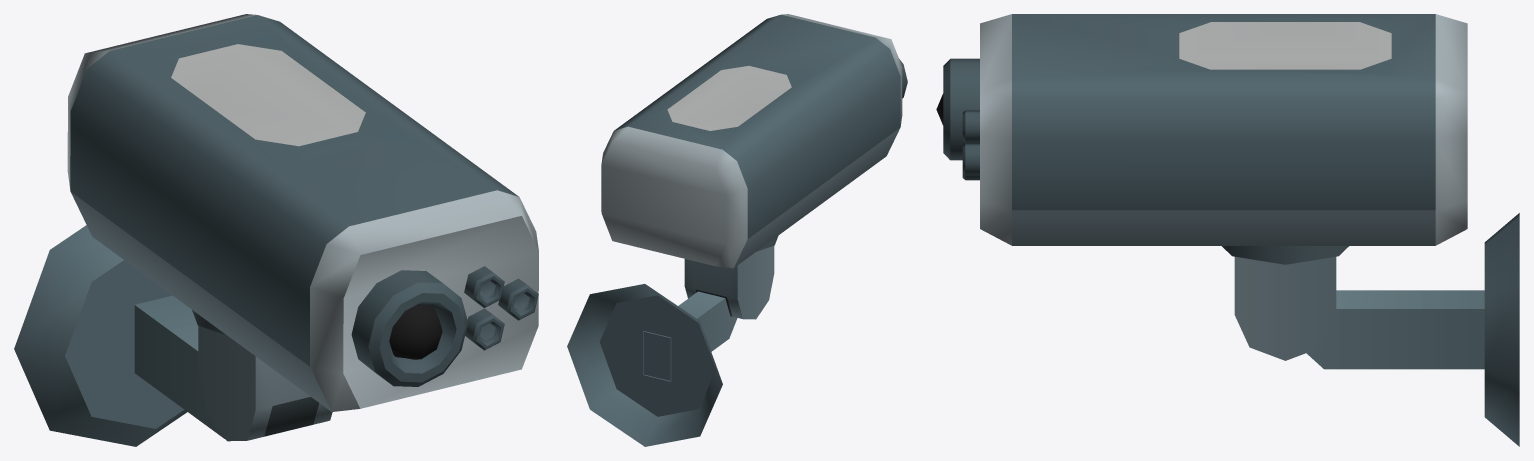
Rendered from Security_cam_013.glb.
3 views of the same model, side by side, from view 1: azimuth 30°, elevation 25°; view 2: azimuth 150°, elevation 25°; view 3: azimuth 270°, elevation 25° (orthographic). The views are drawn at different scales.
Visible parts, largest first — view 1: Cam_013, Security_cam_013, Support_005; view 2: Cam_013, Security_cam_013, Support_005; view 3: Cam_013, Security_cam_013, Support_005.
Boxes of the visible parts, x1,y1,x2,y2 form: Cam_013: (67,14,538,411); Security_cam_013: (14,225,225,446); Support_005: (198,325,332,441); Cam_013: (601,14,907,268); Security_cam_013: (567,284,737,446); Support_005: (684,246,774,319); Cam_013: (936,14,1467,264); Security_cam_013: (1306,213,1519,446); Support_005: (1234,256,1336,360).
Size of the model in its own units: 0.2045 by 0.3591 by 0.4783.
Materials: 3 (2 with a texture image).
